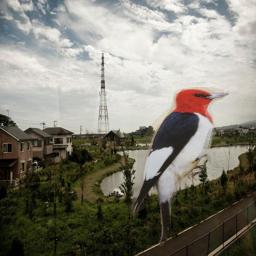Woodpecker: (131, 87, 229, 246)
